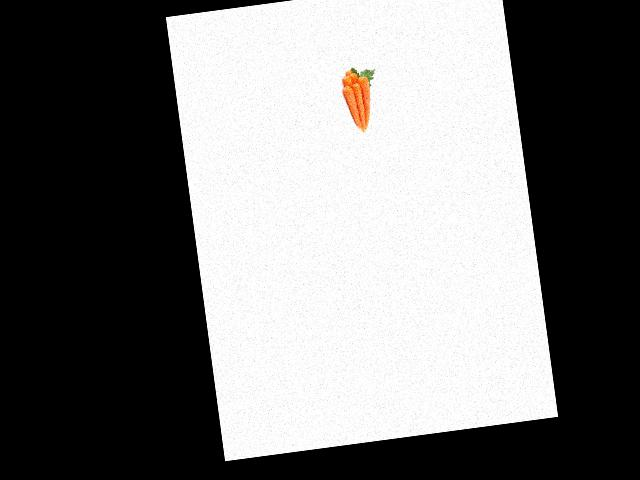carrot: (344, 67, 353, 77)
